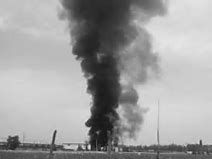smoke: (59, 1, 153, 145)
